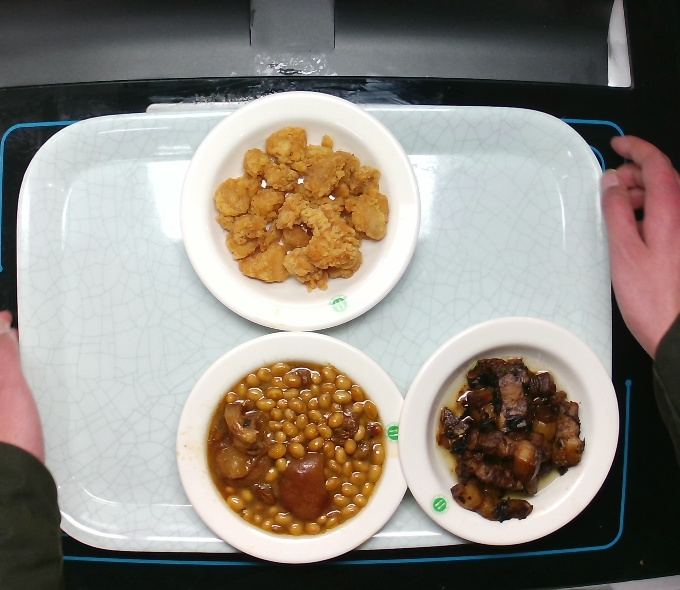wcq-GanCaiRou: (432, 353, 592, 527)
wcq-HuangDouZhuJiao: (197, 353, 390, 541)
wcq-JiMiHua: (210, 121, 393, 297)
